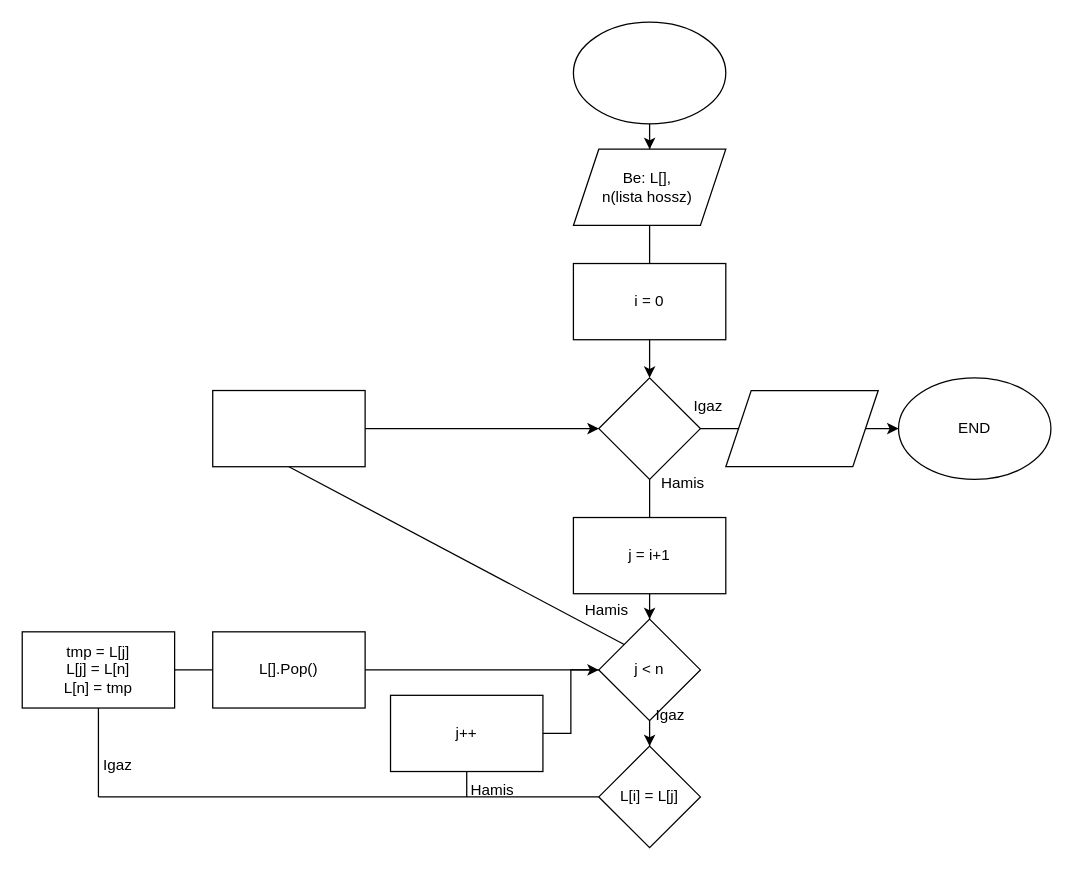
The diagram is 1073 pixels wide and 870 high, and some of its shapes have lost their labels. Each missing label, with the centre of its shape:
i == n: pixel 649 428
i++: pixel 288 428
Ki: L[]: pixel 801 428
START: pixel 649 72
